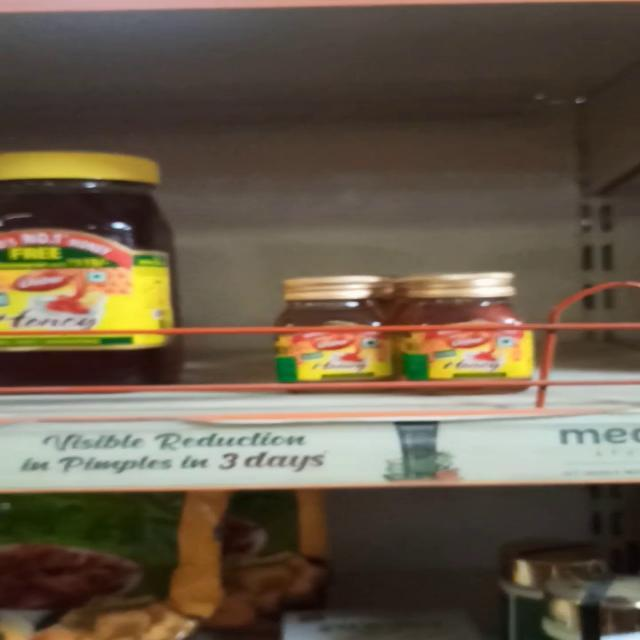Dabur Honey: (0, 154, 177, 380), (414, 274, 534, 382), (278, 278, 396, 384)
